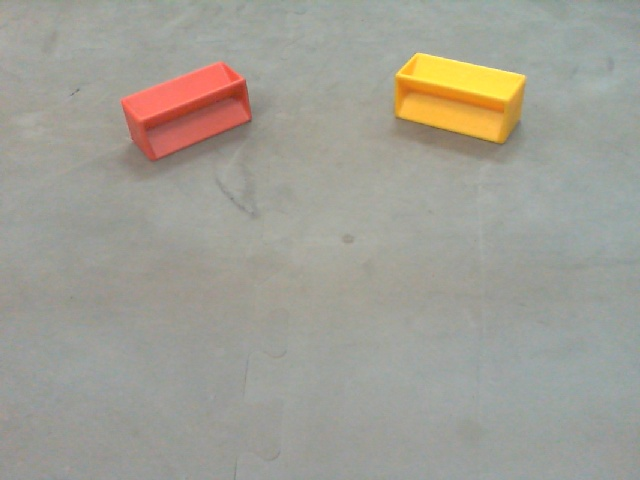RedSample: (117, 59, 254, 161)
YellowSample: (394, 52, 528, 147)
